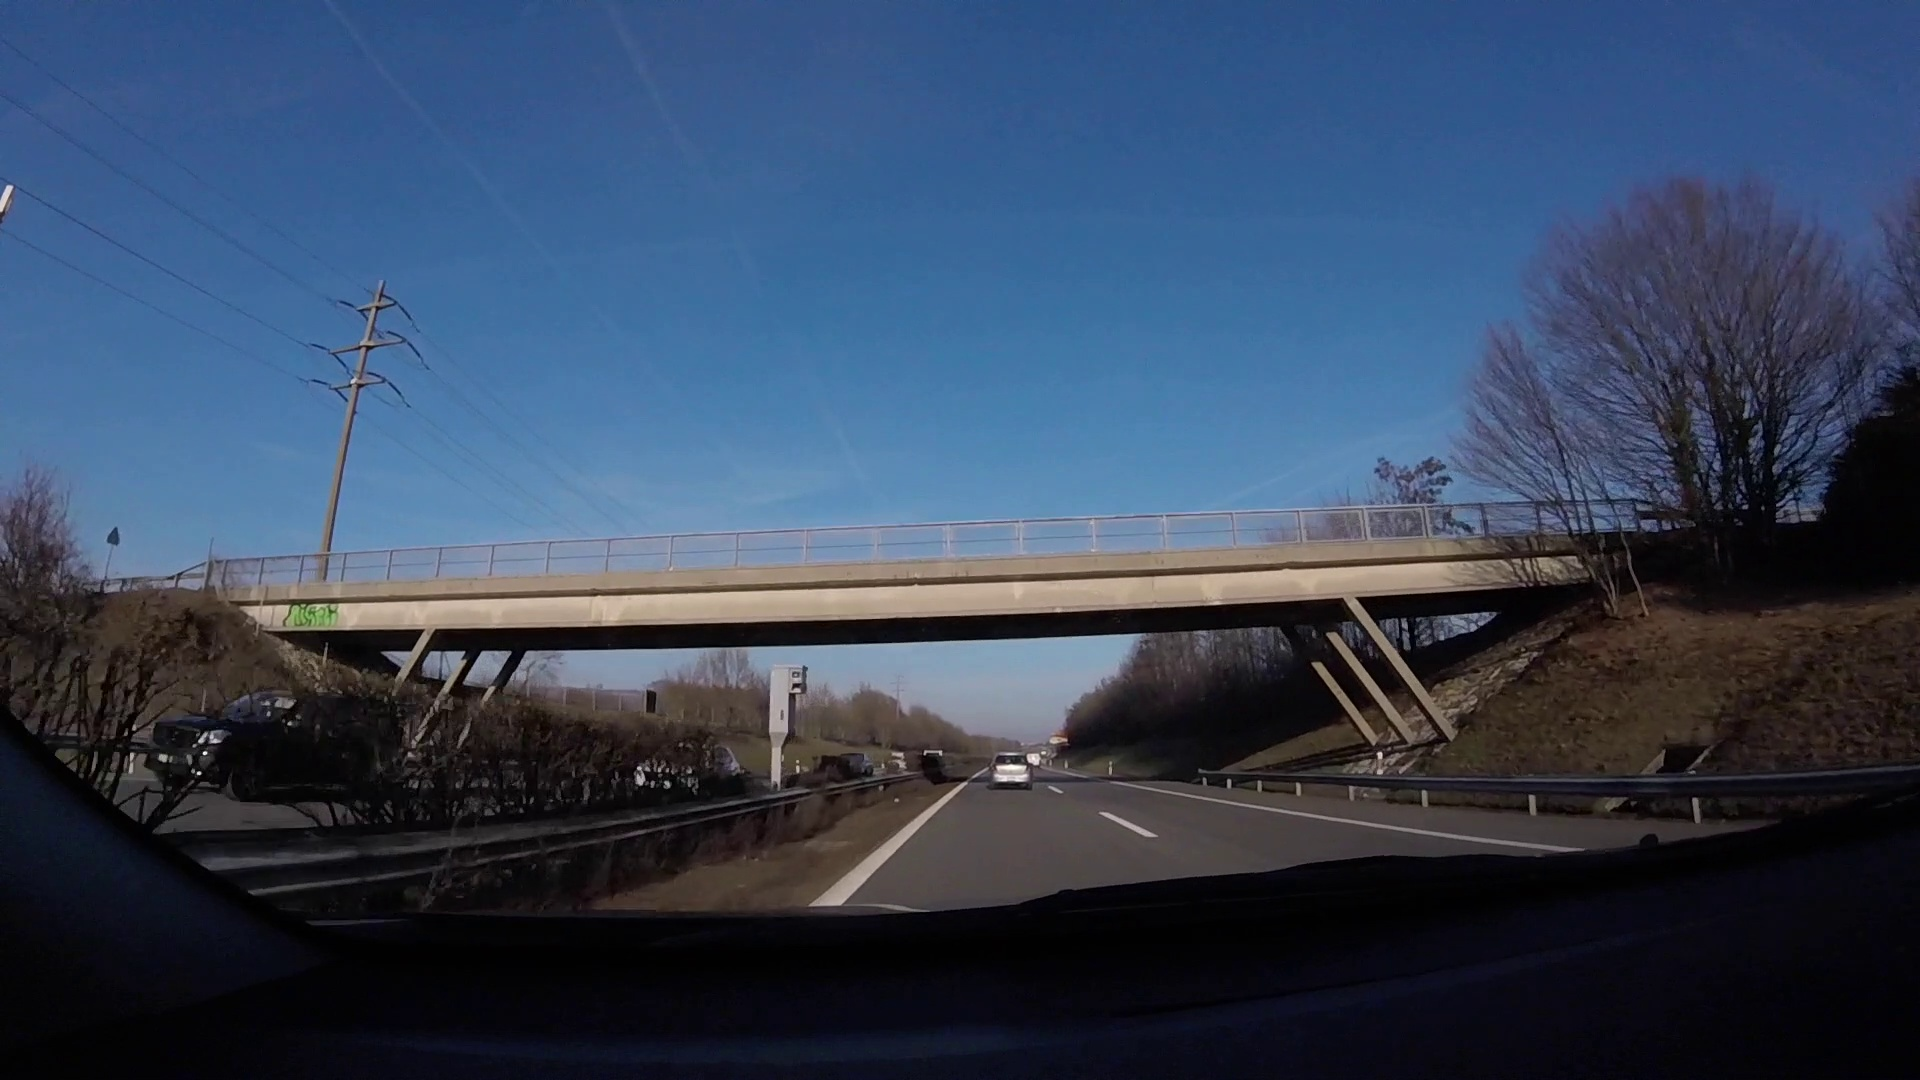radar: (767, 665, 811, 790)
